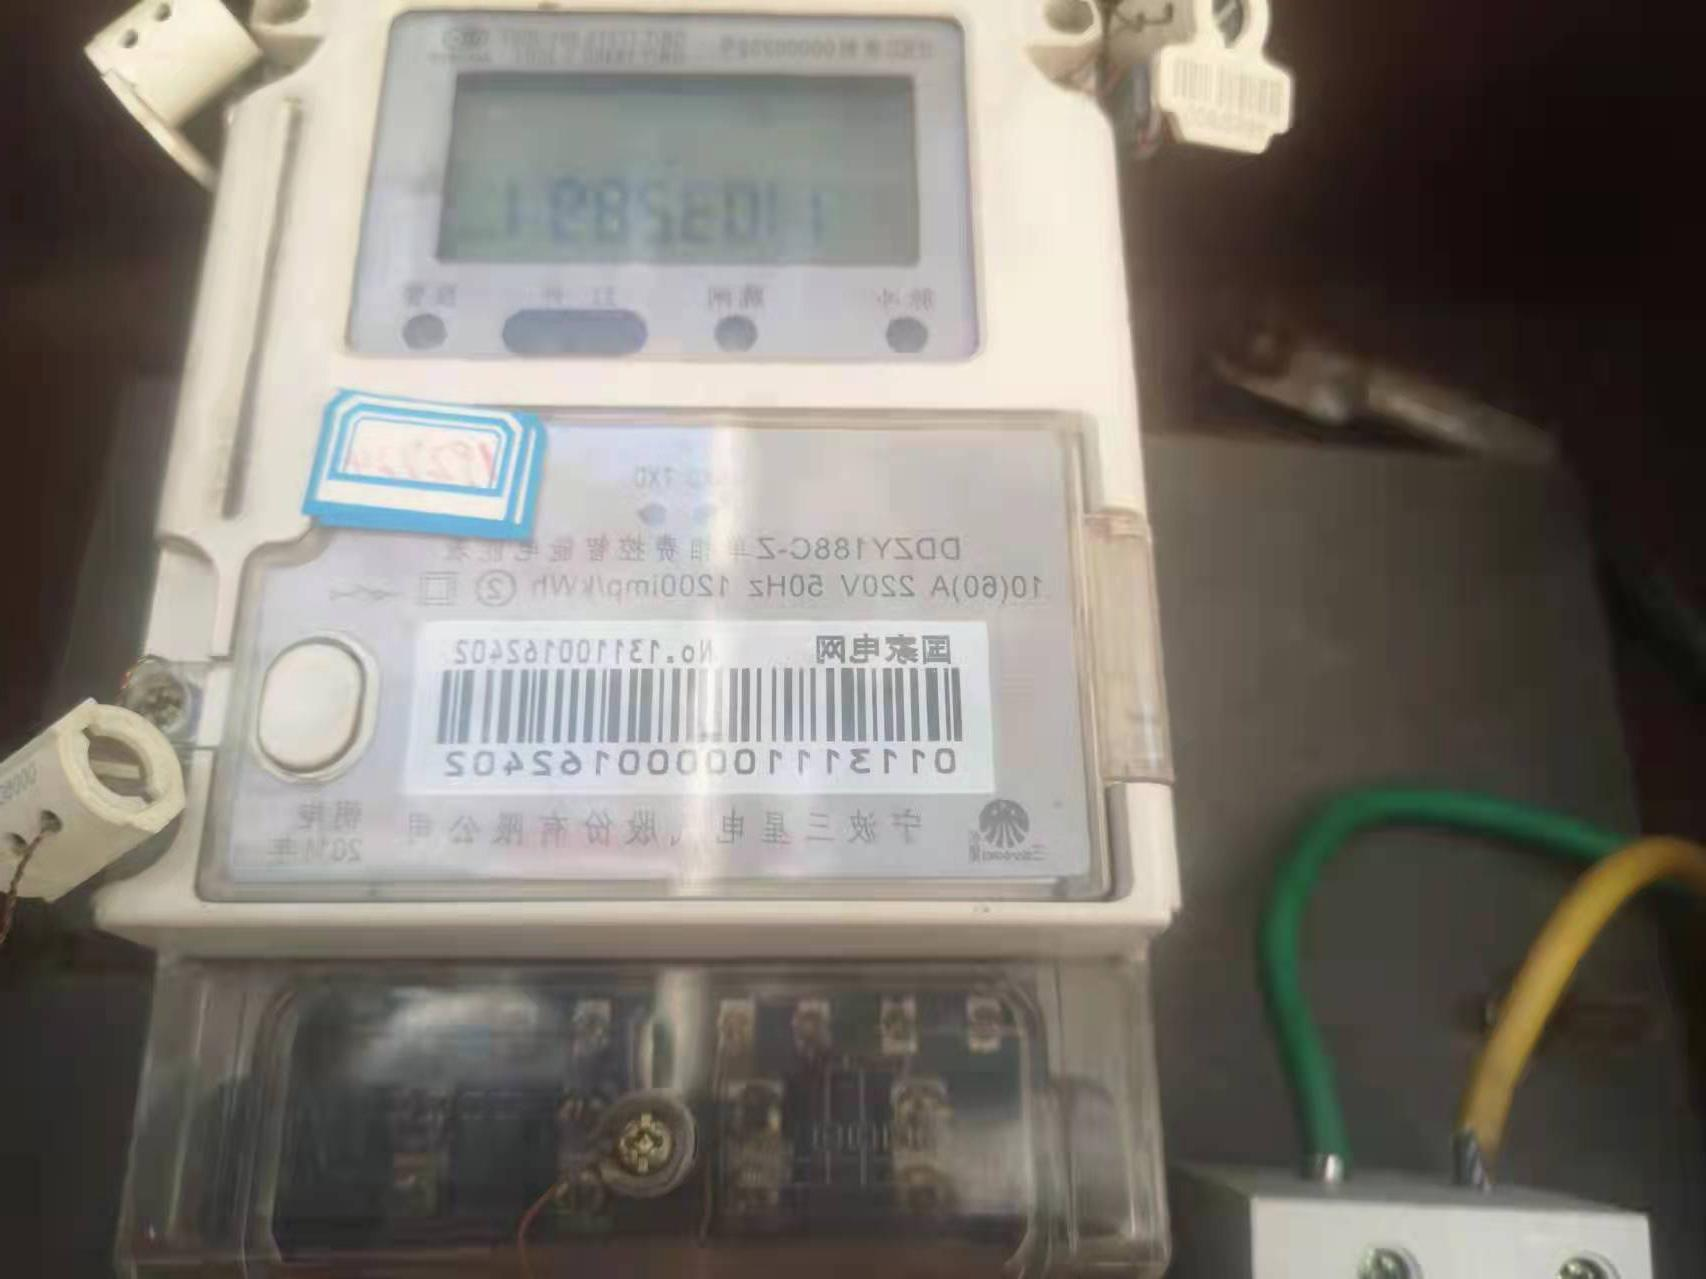digital: (93, 1, 1179, 922)
